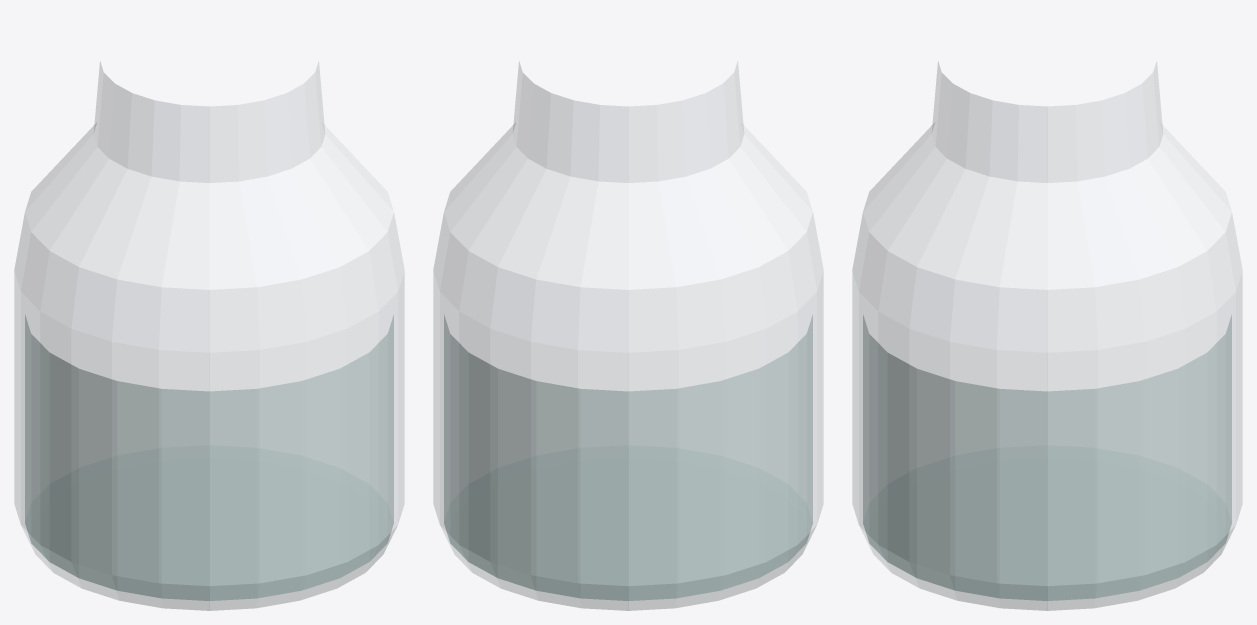
Rendered from pot_glassjar.glb.
The picture shows the model from 3 angles, left to right: view 1: azimuth 30°, elevation 25°; view 2: azimuth 150°, elevation 25°; view 3: azimuth 270°, elevation 25°; orthographic projection.
Parts seen in each view (by area): view 1: glass, water; view 2: glass, water; view 3: glass, water.
Boxes of the visible parts, left/top/right/bottom form: glass: left=14, top=61, right=404, bottom=610; water: left=25, top=315, right=393, bottom=600; glass: left=433, top=61, right=823, bottom=610; water: left=444, top=315, right=812, bottom=600; glass: left=852, top=61, right=1242, bottom=610; water: left=863, top=315, right=1231, bottom=600.
Bounding box in the file's own units: 0.91 × 1.22 × 0.91.
